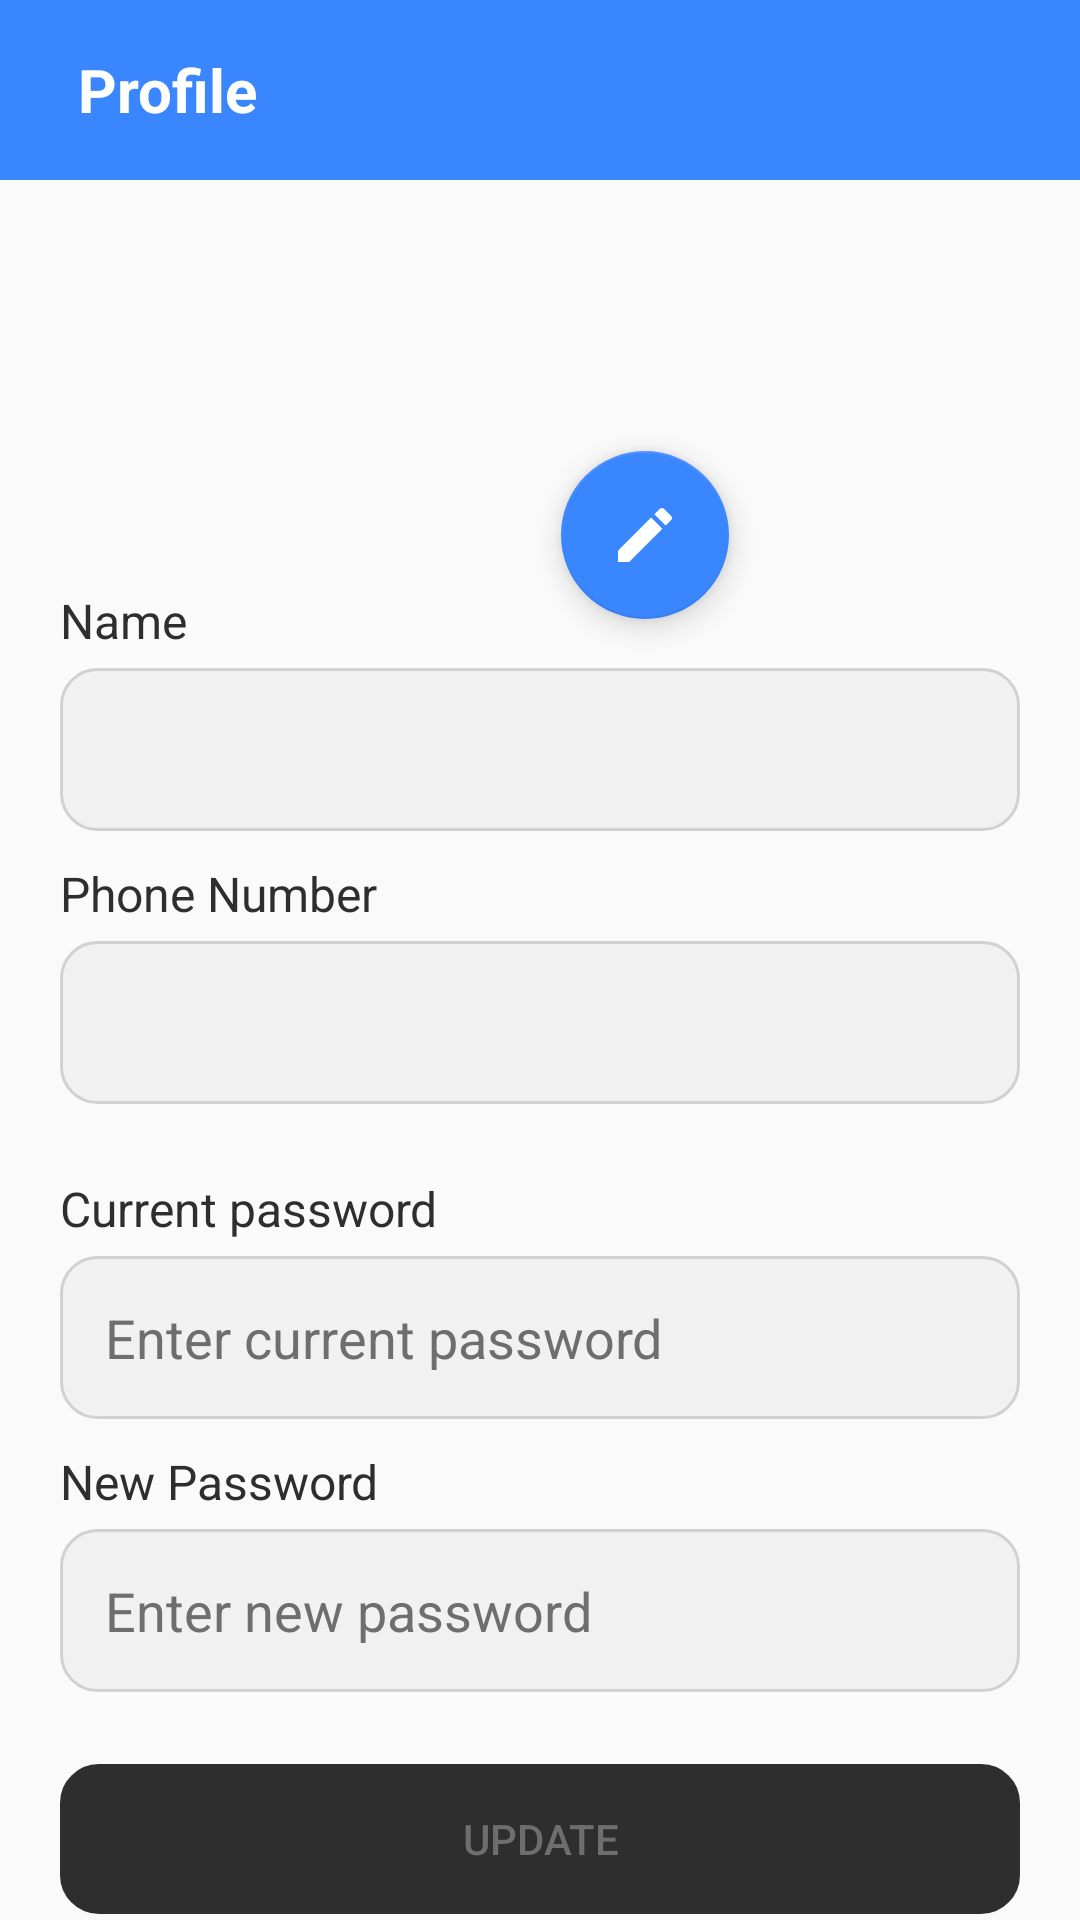

Screen size 1080 × 1920. Icon name, then its center in pixels as point (x, y):
Edit profile image: point (645, 535)
